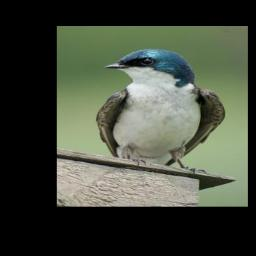Swallow: (94, 47, 225, 175)
